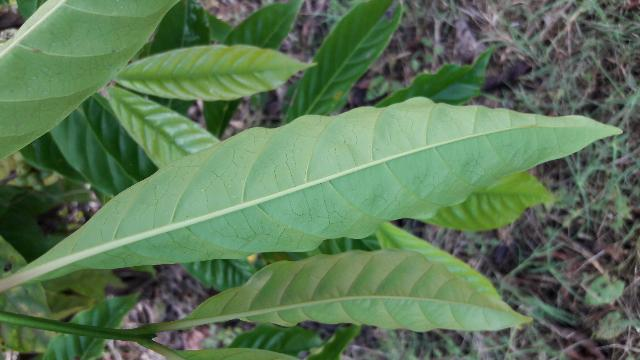healthy: (9, 95, 623, 285)
